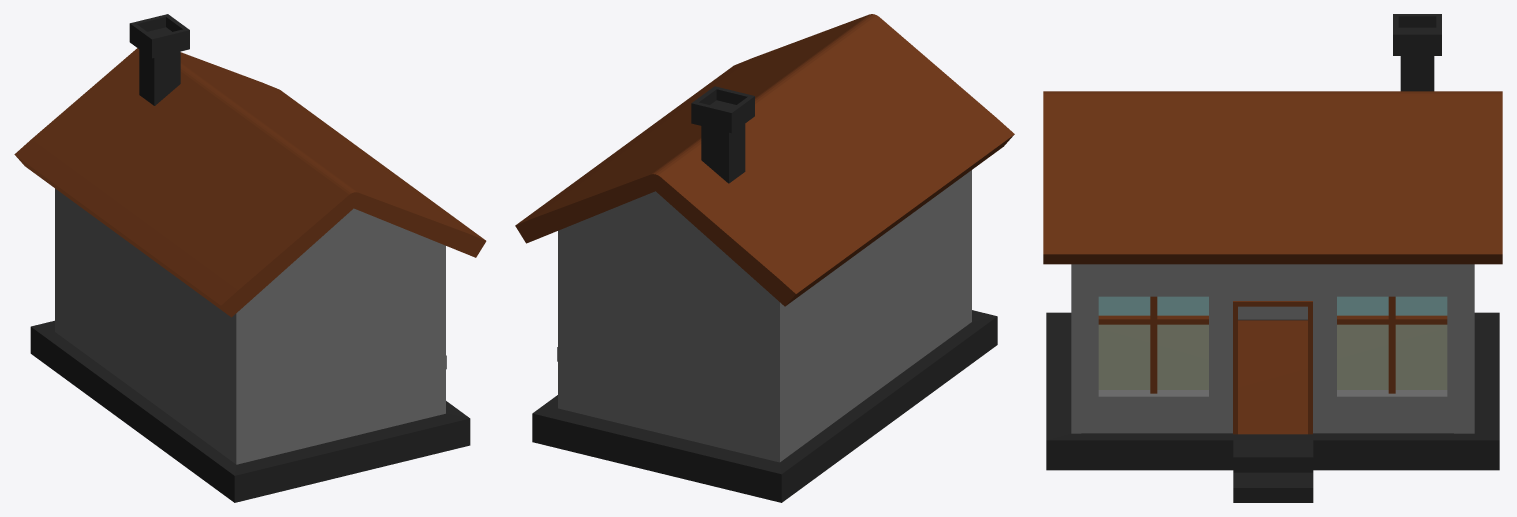
Rendered from small_house.fbx.
3 views of the same model, side by side, from view 1: azimuth 30°, elevation 25°; view 2: azimuth 150°, elevation 25°; view 3: azimuth 270°, elevation 25° (orthographic). The views are drawn at different scales.
Visible parts, largest first — view 1: Body, Roof, Chimney; view 2: Body, Roof, Chimney; view 3: Body, Roof, Window, Chimney, Door_frame.
Boxes of the visible parts, bbox=[...] form: Body: bbox=[30, 188, 470, 502]; Roof: bbox=[14, 48, 486, 317]; Chimney: bbox=[129, 14, 189, 105]; Body: bbox=[532, 170, 997, 502]; Roof: bbox=[515, 14, 1014, 306]; Chimney: bbox=[691, 86, 754, 183]; Body: bbox=[1046, 264, 1499, 502]; Roof: bbox=[1043, 91, 1502, 264]; Window: bbox=[1098, 296, 1447, 393]; Chimney: bbox=[1393, 14, 1441, 91]; Door_frame: bbox=[1233, 301, 1312, 434].
Bounding box in the file's own units: 297 × 302 × 342.
